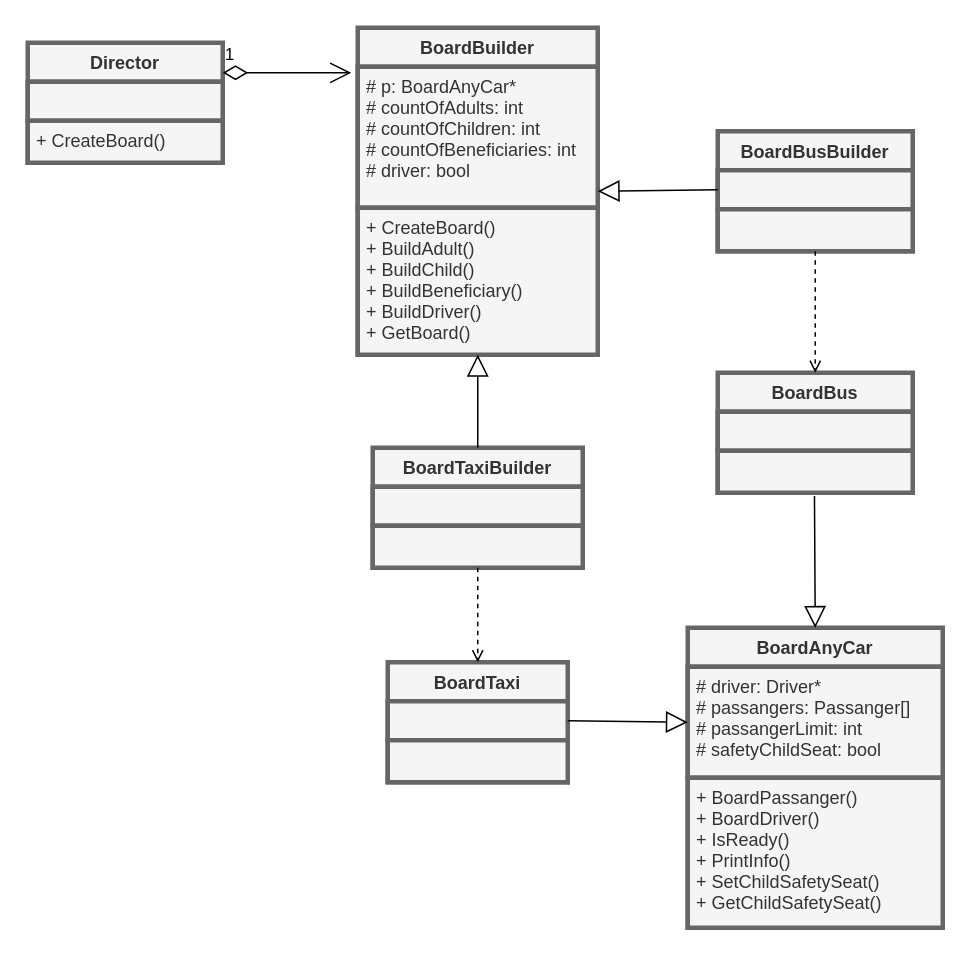
Some shapes in this 971 by 959 pixel diagram are drawn without their labels. The shapes that lost their labels are listed below. From the top down, each one's centre as x and y in pixels, then its label:
At (x=477, y=505): "- safetyChildSeat: bool".
At (x=477, y=546): "+ BuildBeneficiary()".
At (x=477, y=760): "+ PrintInfo()".
